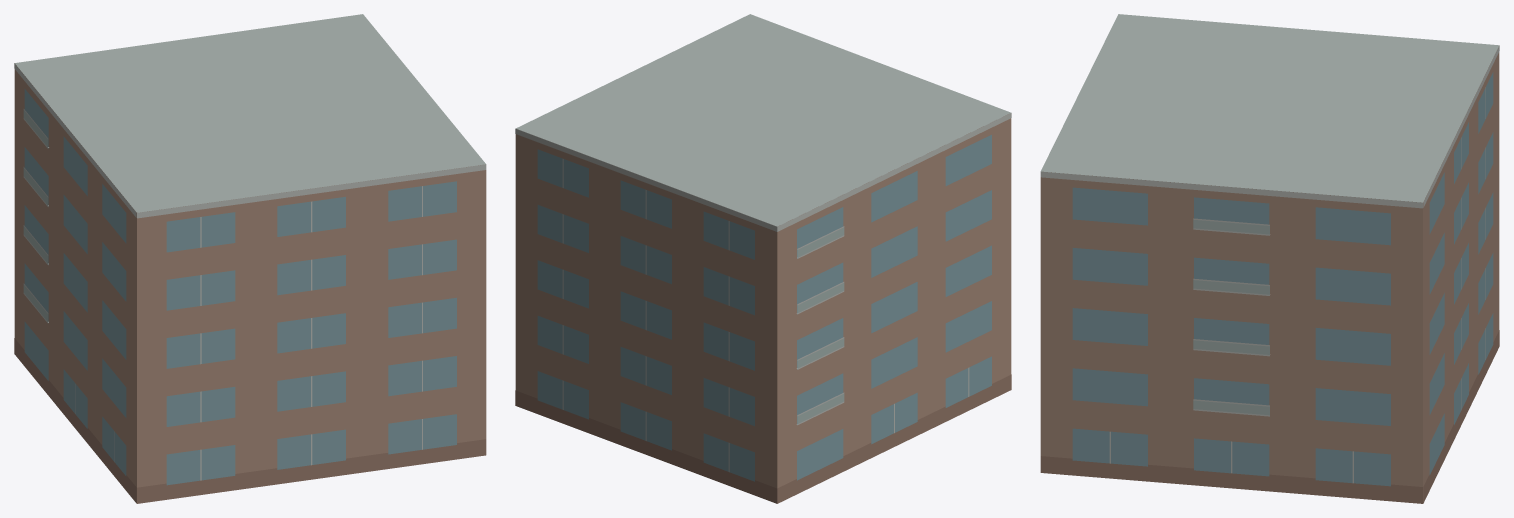
Rendered from survey-upis-32668687.glb.
The picture shows the model from 3 angles, left to right: view 1: azimuth 30°, elevation 25°; view 2: azimuth 150°, elevation 25°; view 3: azimuth 270°, elevation 25°; orthographic projection. The views are drawn at different scales.
Parts seen in each view (by area): view 1: survey-upis-32668687.tmp; view 2: survey-upis-32668687.tmp; view 3: survey-upis-32668687.tmp.
Part boxes in pixels (x1,y1,x2,y2): survey-upis-32668687.tmp: [14, 14, 486, 503]; survey-upis-32668687.tmp: [515, 14, 1011, 503]; survey-upis-32668687.tmp: [1040, 14, 1499, 503].
Size of the model in its own units: 16.93 by 12.6 by 17.4.
